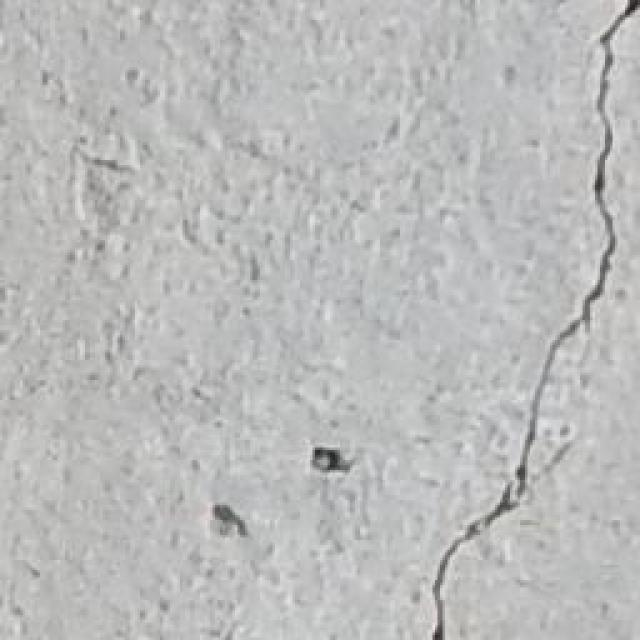concrete-crack: (427, 0, 640, 640), (310, 445, 362, 478), (210, 502, 245, 538)
